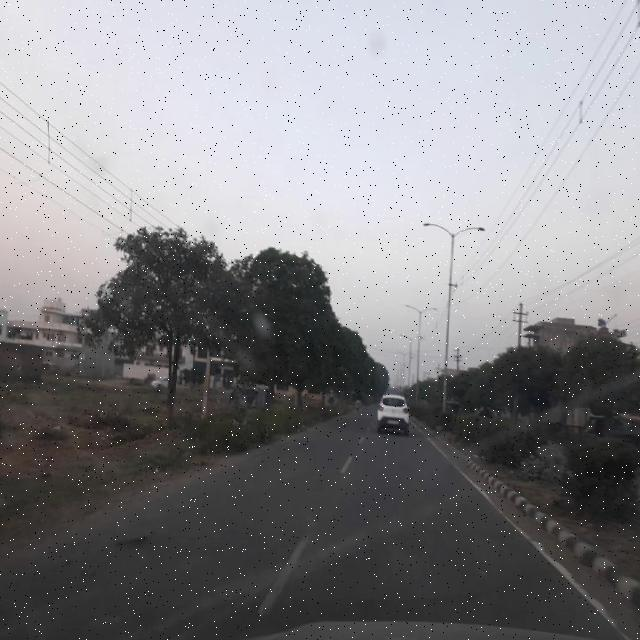D44: (250, 526, 318, 622)
